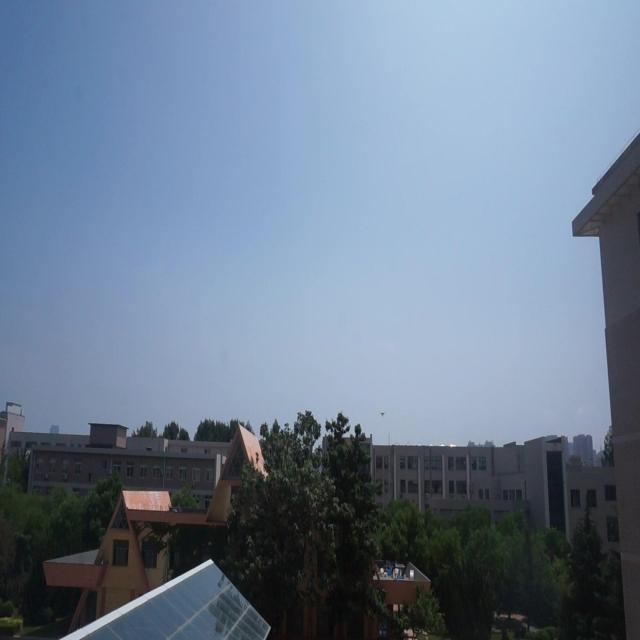drone: (378, 408, 386, 418)
